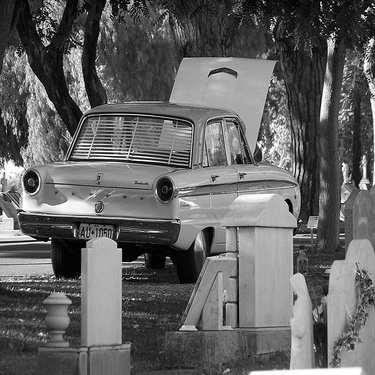car: (9, 42, 307, 286)
